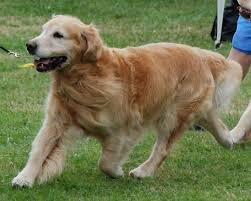Golden Retriever: (18, 9, 248, 190)
